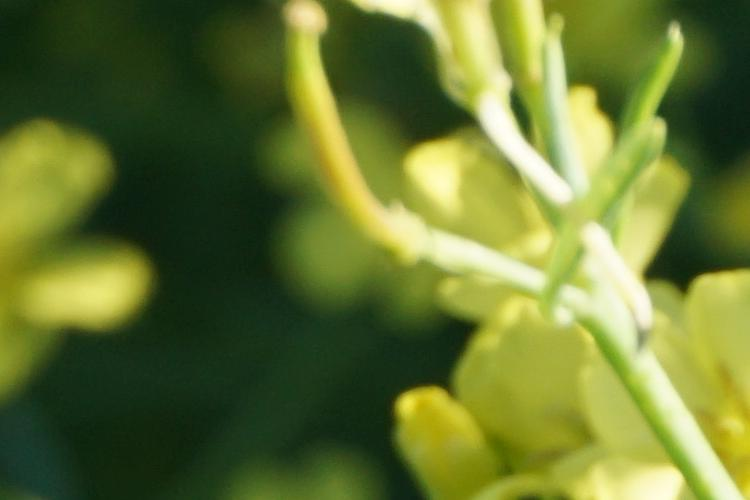pod: (270, 13, 435, 270)
